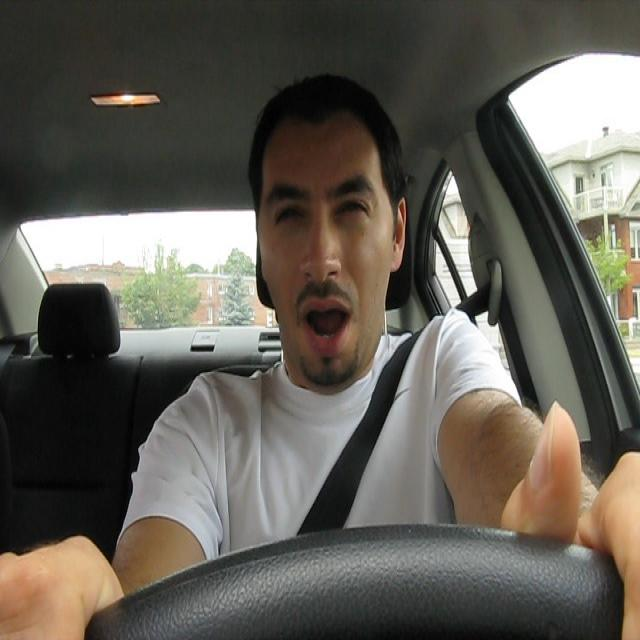Eyeclosed: (333, 193, 367, 227), (275, 200, 307, 230)
